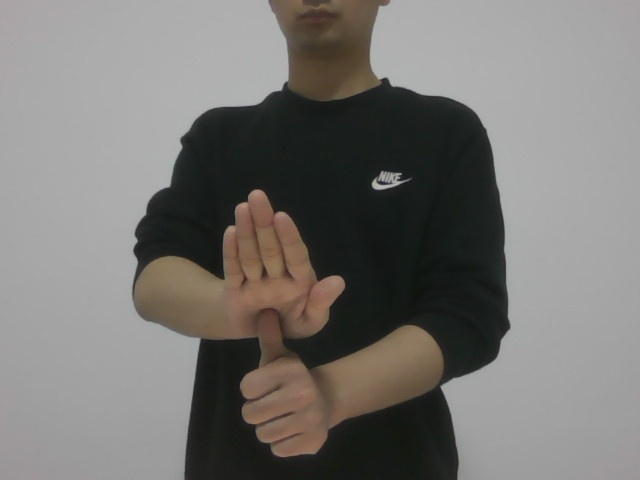love: (208, 185, 355, 471)
